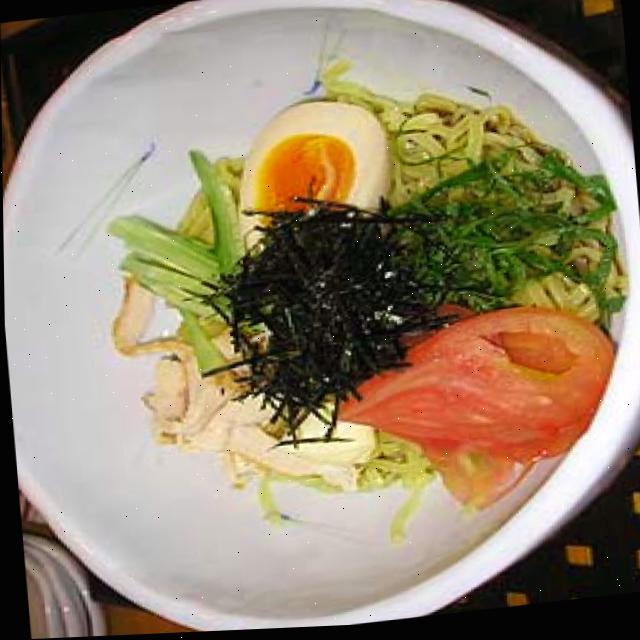面条主食: (63, 10, 640, 569)
